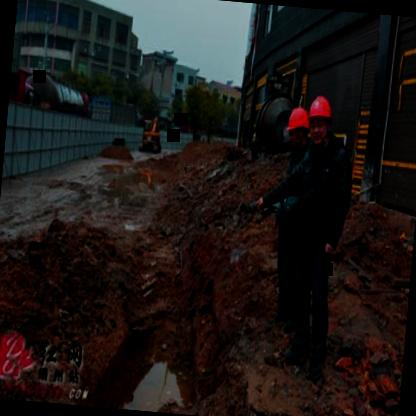helmet: (306, 93, 336, 148), (286, 105, 312, 152)
